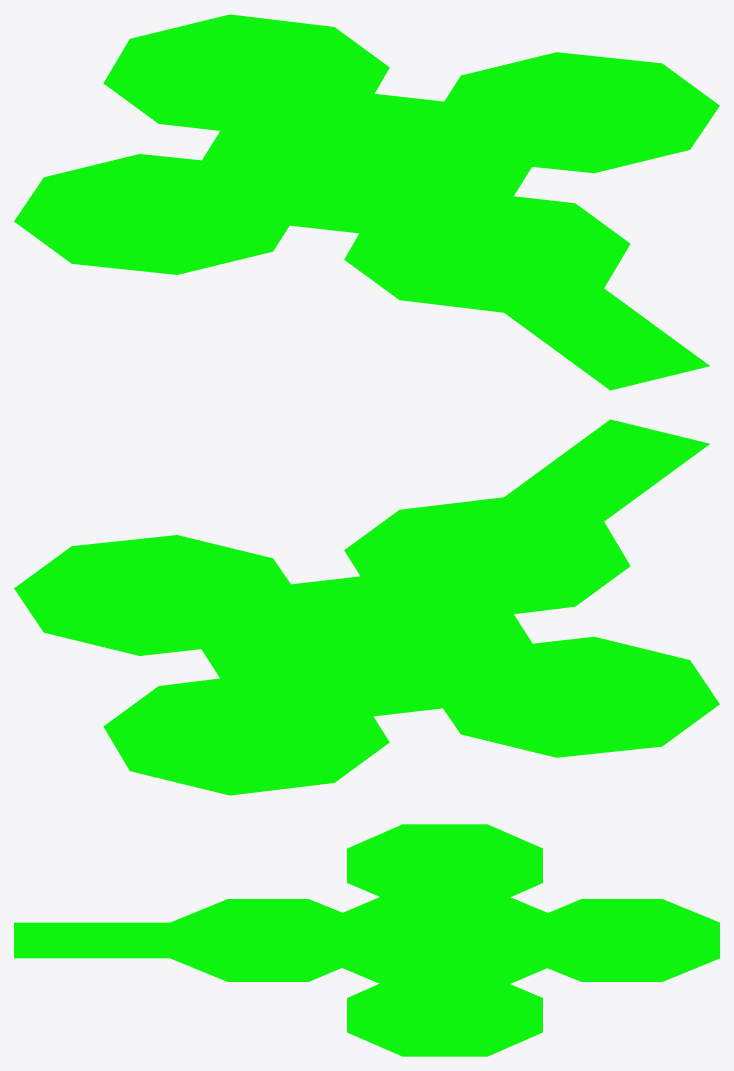
Rendered from s07b_ga1-floor.glb.
3 renders of one model, top to bottom at view 1: azimuth 30°, elevation 25°; view 2: azimuth 150°, elevation 25°; view 3: azimuth 270°, elevation 25°, orthographic. The views are drawn at different scales.
Visible parts, largest first — view 1: collision_floor-colonly; view 2: collision_floor-colonly; view 3: collision_floor-colonly.
Part boxes in pixels (x1,y1,x2,y2): collision_floor-colonly: (14,14,719,390); collision_floor-colonly: (14,419,719,795); collision_floor-colonly: (14,824,719,1056).
Size of the model in its own units: 38.86 by 0 by 49.89.
